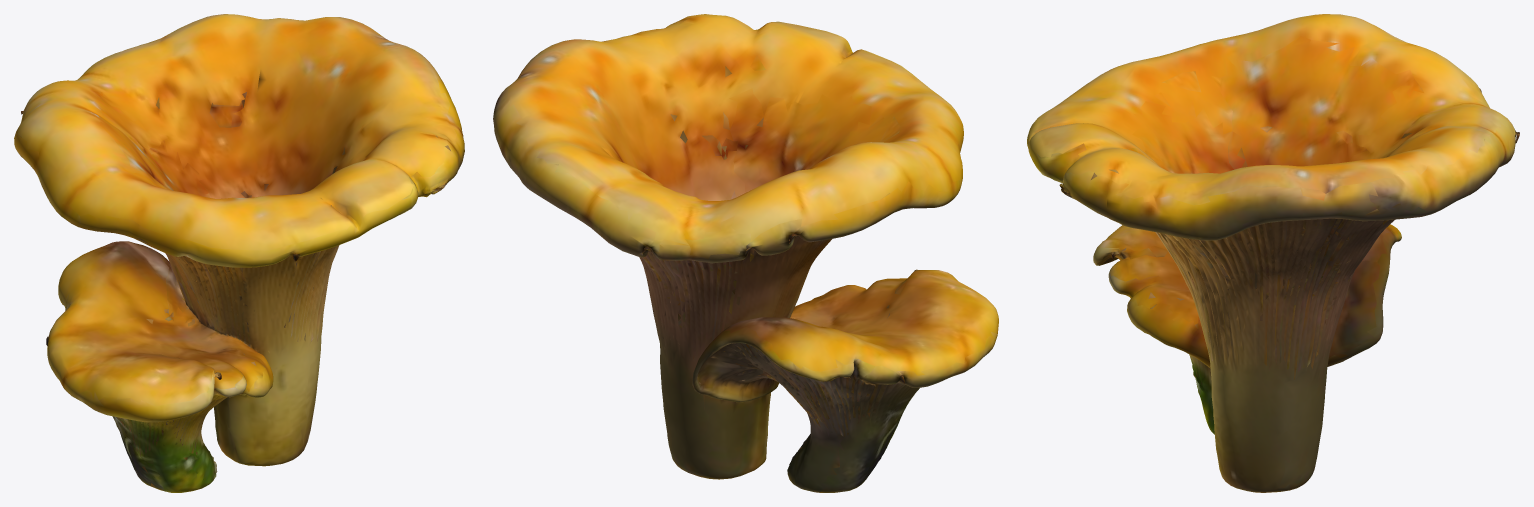
3 views of the same model, side by side, from view 1: azimuth 30°, elevation 25°; view 2: azimuth 150°, elevation 25°; view 3: azimuth 270°, elevation 25° (orthographic). The views are drawn at different scales.
Parts seen in each view (by area): view 1: Meshy_AI_Chantarelle_0210153845_texture; view 2: Meshy_AI_Chantarelle_0210153845_texture; view 3: Meshy_AI_Chantarelle_0210153845_texture.
Part boxes in pixels (left/top/right/bottom): Meshy_AI_Chantarelle_0210153845_texture: left=14, top=14, right=464, bottom=492; Meshy_AI_Chantarelle_0210153845_texture: left=493, top=14, right=998, bottom=492; Meshy_AI_Chantarelle_0210153845_texture: left=1027, top=14, right=1519, bottom=492.
Size of the model in its own units: 1.92 by 1.7 by 2.
